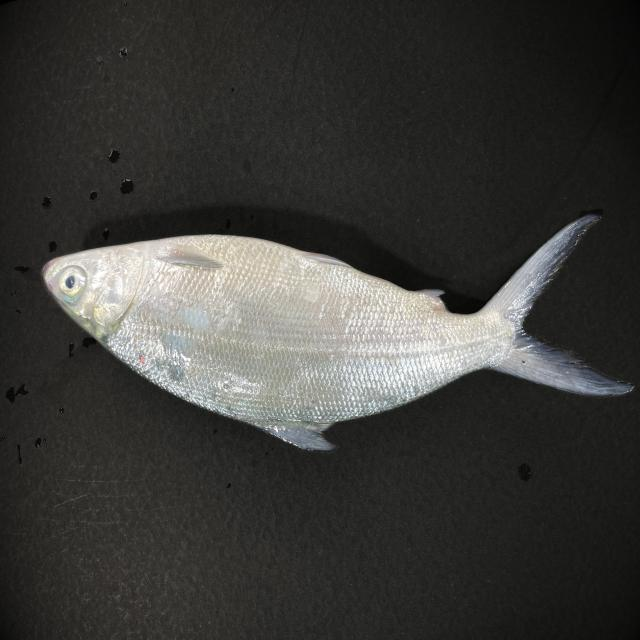700 g: (40, 212, 635, 452)
